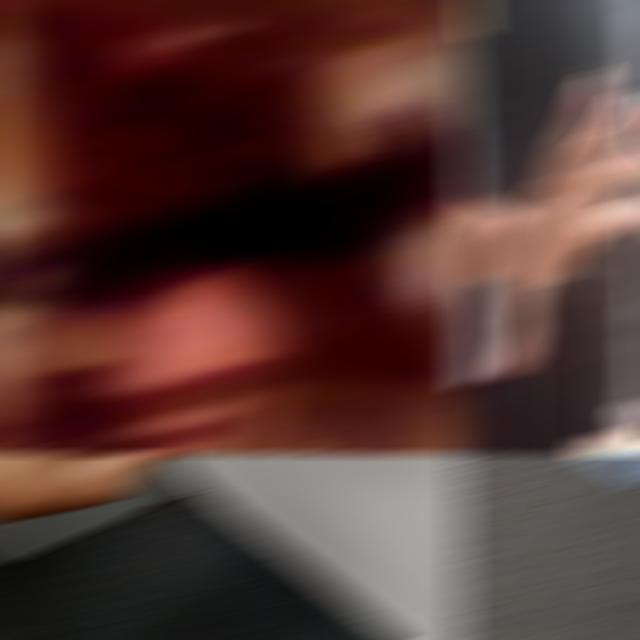Knife: (452, 456, 640, 490)
Knife_Handle: (0, 49, 468, 315)
